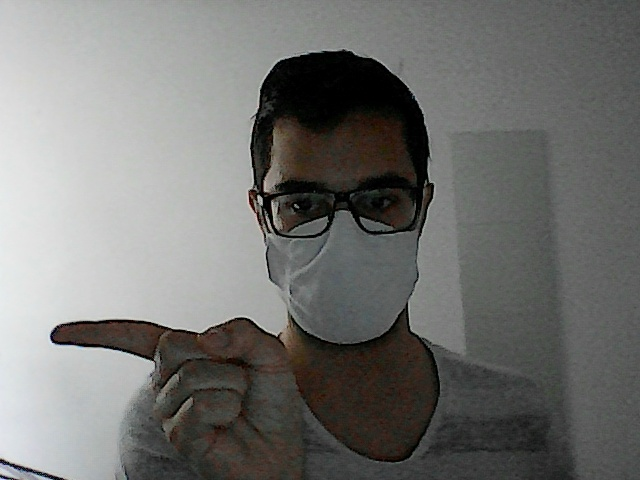right: (43, 314, 320, 480)
